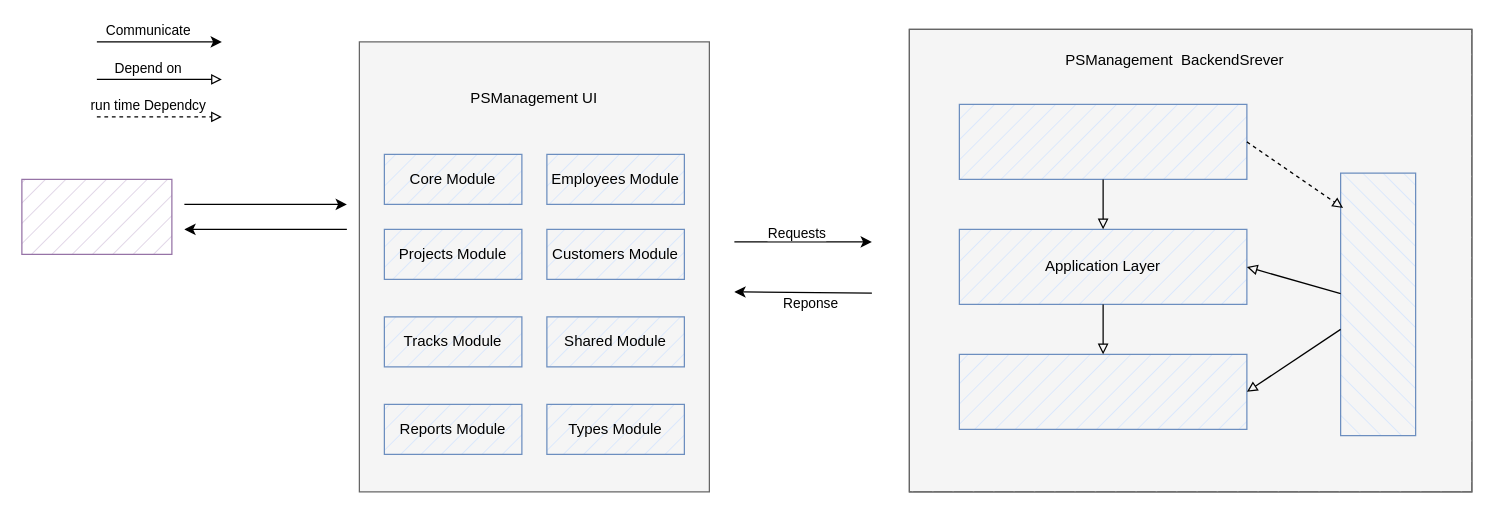
Image size: 1494x514. Some labels were removed from this diagram. The centre of each missing label's shape, as x and y in pixels:
"Client" belongs at [96,216].
"Domain Layer" belongs at [1102,391].
"Ifrastructure" belongs at [1377,304].
"Presentaion" belongs at [1102,141].
